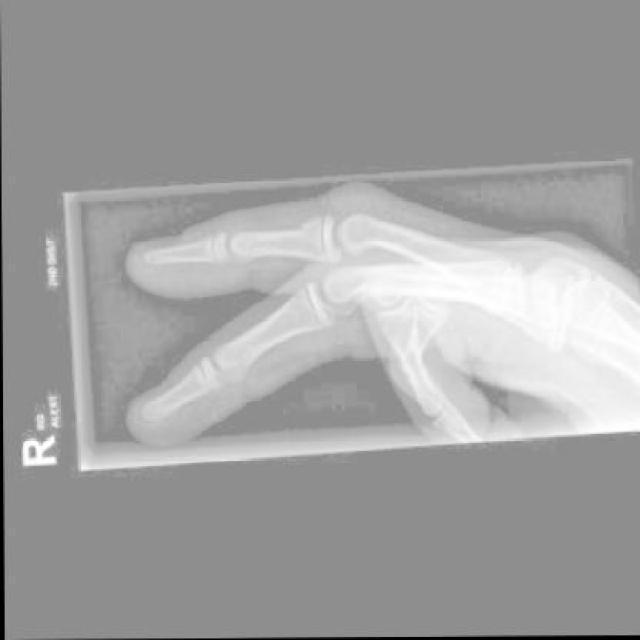Fracture: (296, 216, 330, 241)
